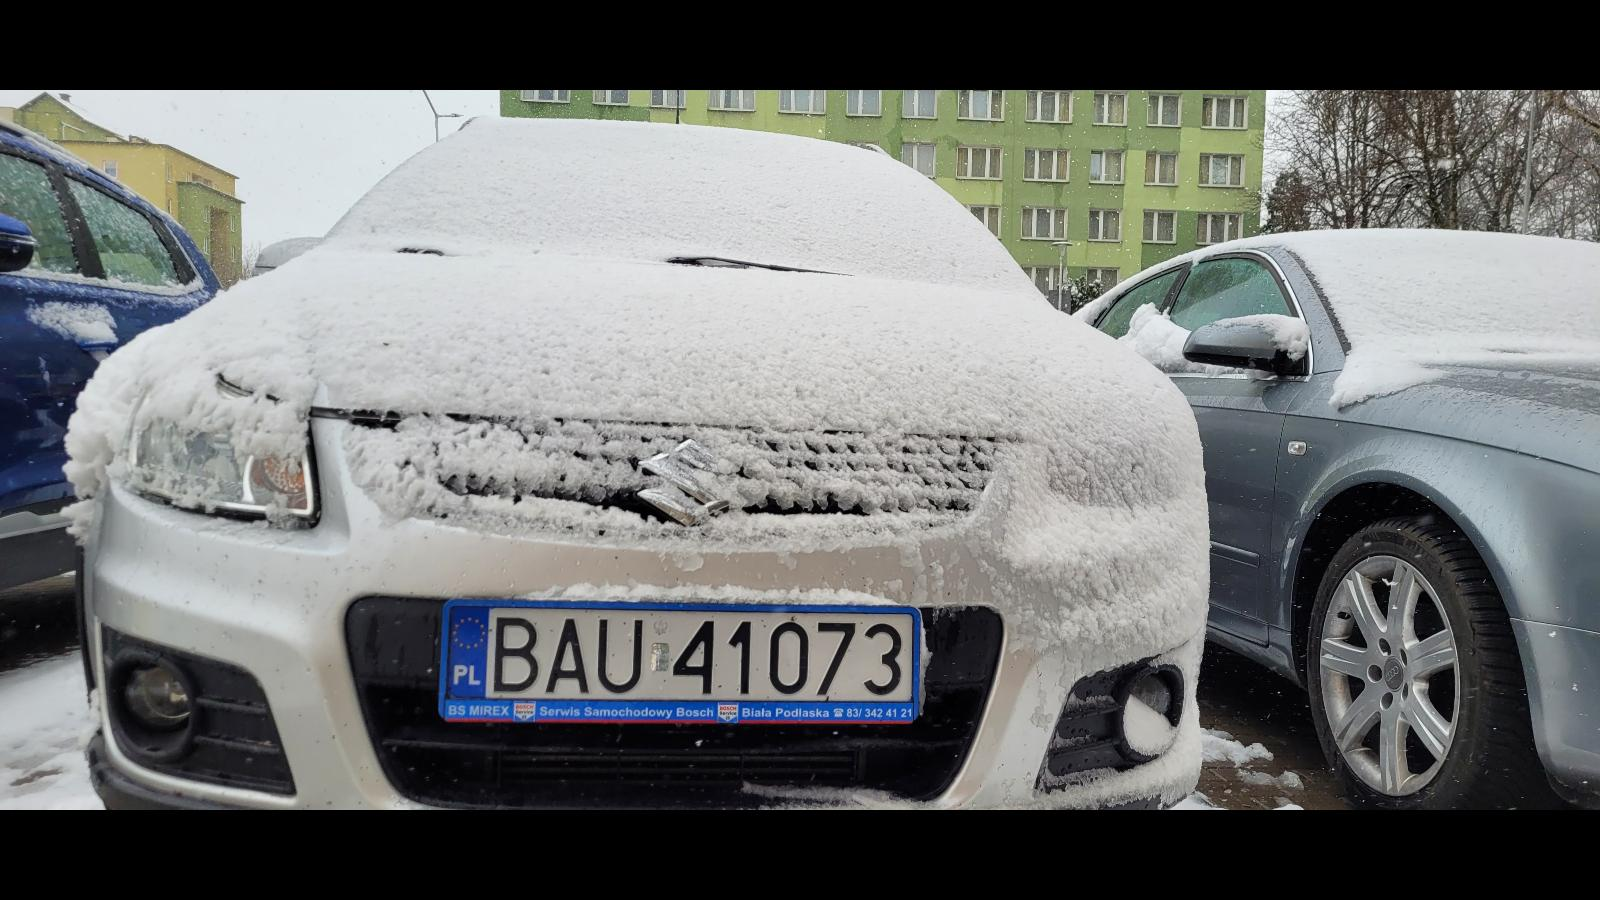plates: (438, 599, 922, 725)
